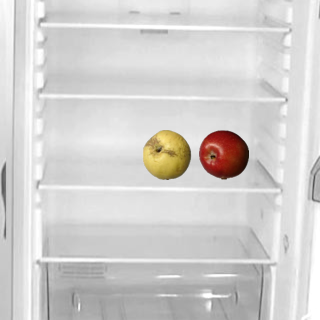Apple Braeburn: (198, 129, 248, 179)
Apple Golden 1: (141, 129, 191, 179)
